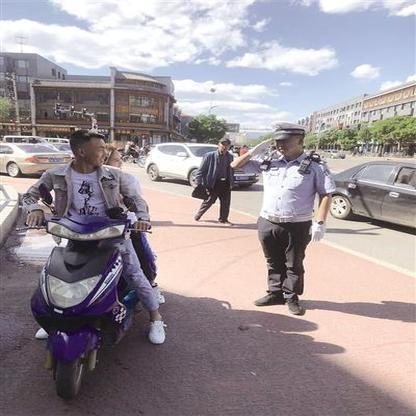target: (22, 131, 168, 402)
